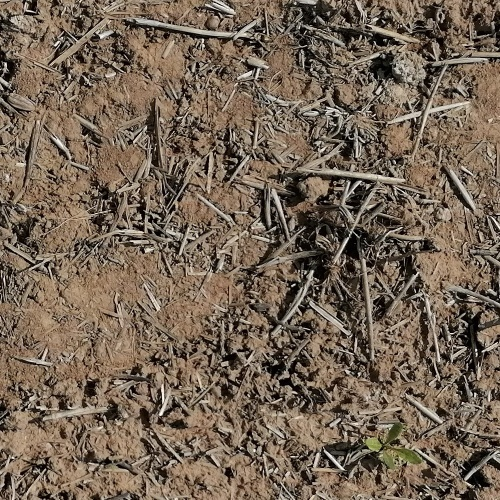beet: (366, 423, 423, 468)
